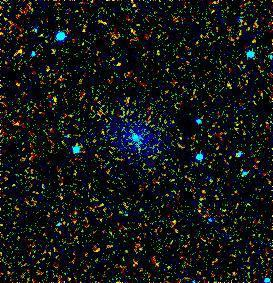star: (7, 37, 37, 67)
